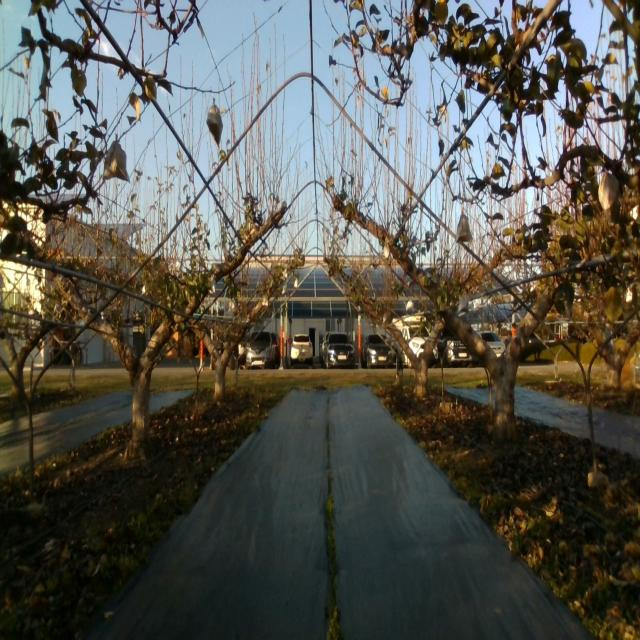pearbags: (103, 140, 130, 183), (598, 172, 619, 224), (207, 105, 223, 148), (456, 215, 472, 242), (458, 292, 469, 314)
